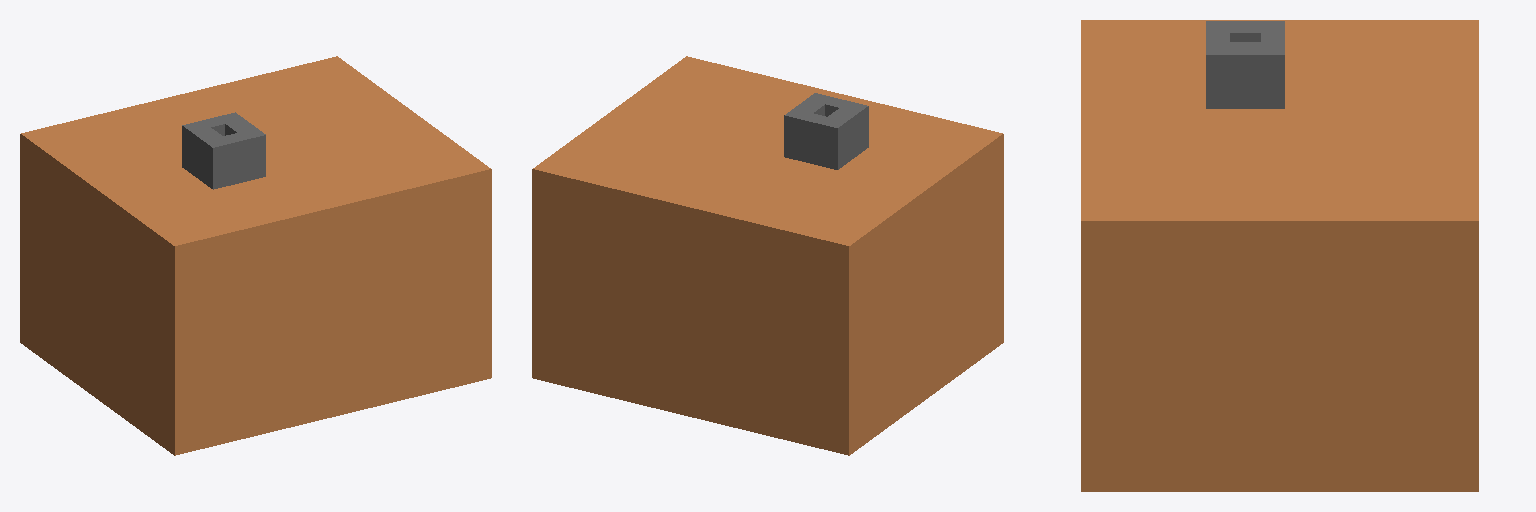
URDF robot description (peg_in_hole_tolerances_scenes_scene_0040_tol05):
<?xml version="1.0"?>
<robot name="peg_in_hole_tolerances_scenes_scene_0040_tol05">
  <material name="wood"><color rgba="0.82 0.56 0.35 1.0"/></material>
  <material name="hole_grey"><color rgba="0.4706 0.4706 0.4706 1.0"/></material>
  <link name="box">
    <visual>
      <origin xyz="0.000000 0.000000 0.000000" rpy="0 0 0"/>
      <geometry><box size="0.475000 0.400000 0.300000"/></geometry>
      <material name="wood"/>
    </visual>
    <collision>
      <origin xyz="0.000000 0.000000 0.000000" rpy="0 0 0"/>
      <geometry><box size="0.475000 0.400000 0.300000"/></geometry>
    </collision>
    <visual>
      <origin xyz="-0.067574 -0.034562 0.155000" rpy="0 0 0"/>
      <geometry><box size="0.080000 0.080000 0.010000"/></geometry>
      <material name="hole_grey"/>
    </visual>
    <collision>
      <origin xyz="-0.067574 -0.034562 0.155000" rpy="0 0 0"/>
      <geometry><box size="0.080000 0.080000 0.010000"/></geometry>
    </collision>
    <visual>
      <origin xyz="-0.042176 -0.034562 0.185000" rpy="0 0 0"/>
      <geometry><box size="0.029204 0.080000 0.050000"/></geometry>
      <material name="hole_grey"/>
    </visual>
    <collision>
      <origin xyz="-0.042176 -0.034562 0.185000" rpy="0 0 0"/>
      <geometry><box size="0.029204 0.080000 0.050000"/></geometry>
    </collision>
    <visual>
      <origin xyz="-0.092972 -0.034562 0.185000" rpy="0 0 0"/>
      <geometry><box size="0.029204 0.080000 0.050000"/></geometry>
      <material name="hole_grey"/>
    </visual>
    <collision>
      <origin xyz="-0.092972 -0.034562 0.185000" rpy="0 0 0"/>
      <geometry><box size="0.029204 0.080000 0.050000"/></geometry>
    </collision>
    <visual>
      <origin xyz="-0.067574 -0.006664 0.185000" rpy="0 0 0"/>
      <geometry><box size="0.021592 0.024204 0.050000"/></geometry>
      <material name="hole_grey"/>
    </visual>
    <collision>
      <origin xyz="-0.067574 -0.006664 0.185000" rpy="0 0 0"/>
      <geometry><box size="0.021592 0.024204 0.050000"/></geometry>
    </collision>
    <visual>
      <origin xyz="-0.067574 -0.062460 0.185000" rpy="0 0 0"/>
      <geometry><box size="0.021592 0.024204 0.050000"/></geometry>
      <material name="hole_grey"/>
    </visual>
    <collision>
      <origin xyz="-0.067574 -0.062460 0.185000" rpy="0 0 0"/>
      <geometry><box size="0.021592 0.024204 0.050000"/></geometry>
    </collision>
    <inertial>
      <mass value="500"/>
      <friction value="1.0"/>
      <inertia ixx="1000.0" ixy="0.0" ixz="0.0" iyy="1000.0" iyz="0.0" izz="1000.0"/>
    </inertial>
  </link>
</robot>

--- Facts derived from the render (not from the file) ---
The picture shows the robot from 3 angles, left to right: view 1: azimuth 30°, elevation 25°; view 2: azimuth 150°, elevation 25°; view 3: azimuth 270°, elevation 25°; orthographic projection.
Robot: peg_in_hole_tolerances_scenes_scene_0040_tol05 — 1 links, 0 joints (none); root link box; default pose: every joint at zero.
Visible links, largest first — view 1: box; view 2: box; view 3: box.
Boxes of the visible links, box(x1,y1,x2,y2) form: box: box(20, 56, 491, 455); box: box(532, 56, 1003, 455); box: box(1081, 20, 1478, 491).
Size in the robot's own frame: 0.475 by 0.4 by 0.36 metres.
Geometry: primitives only (box / cylinder / sphere), no mesh files.
